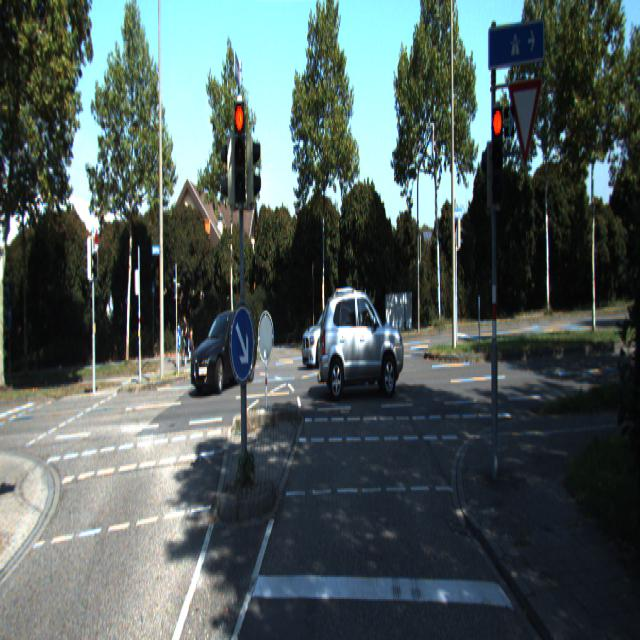Car: (319, 288, 406, 400), (189, 309, 260, 398), (300, 298, 364, 368)
